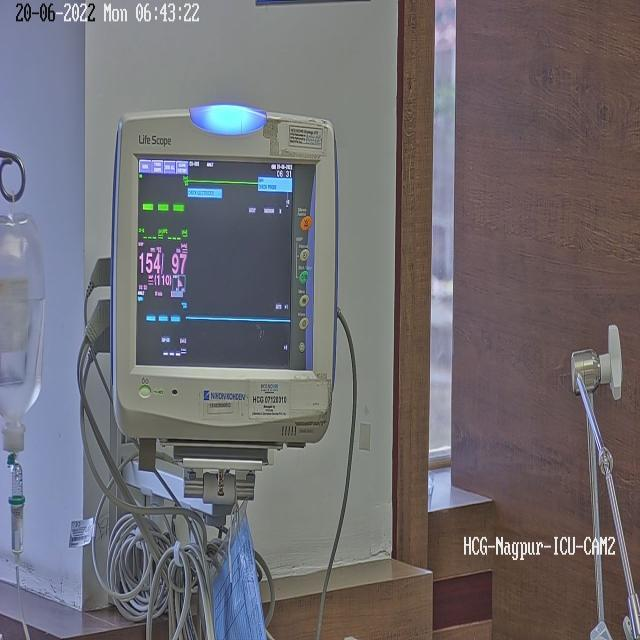Monitor: (109, 103, 339, 625)
